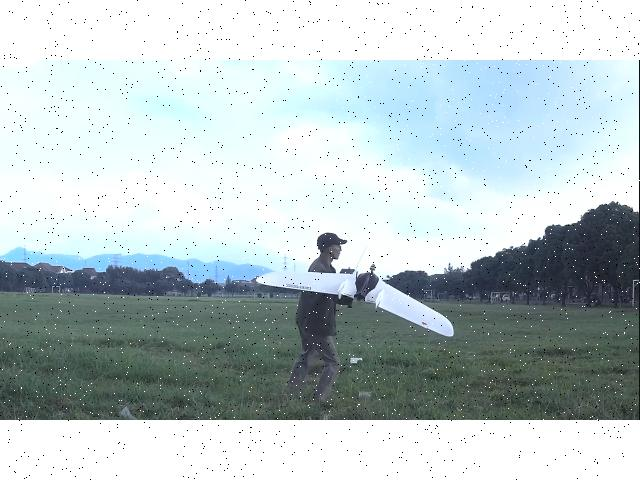Anti-Drone: (249, 252, 469, 342)
